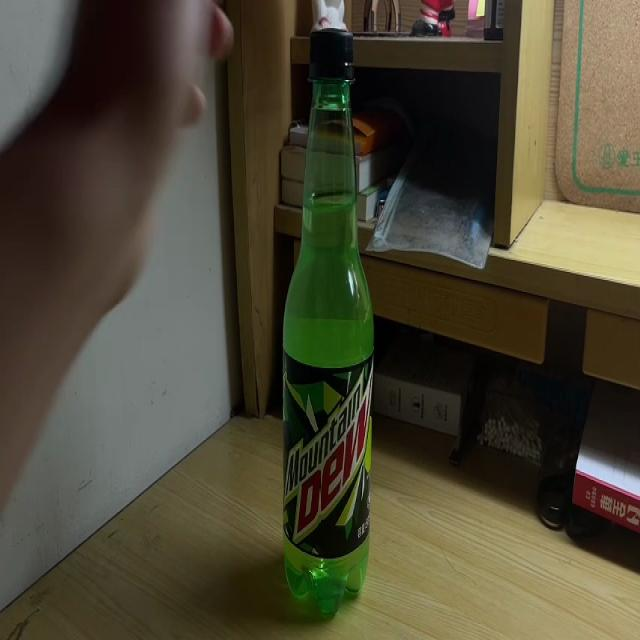Mountain-Dew: (282, 28, 375, 620)
